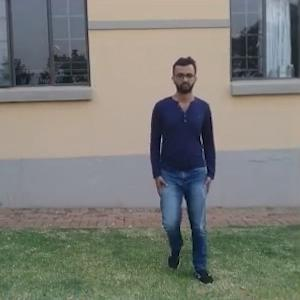follow: (148, 58, 211, 273)
